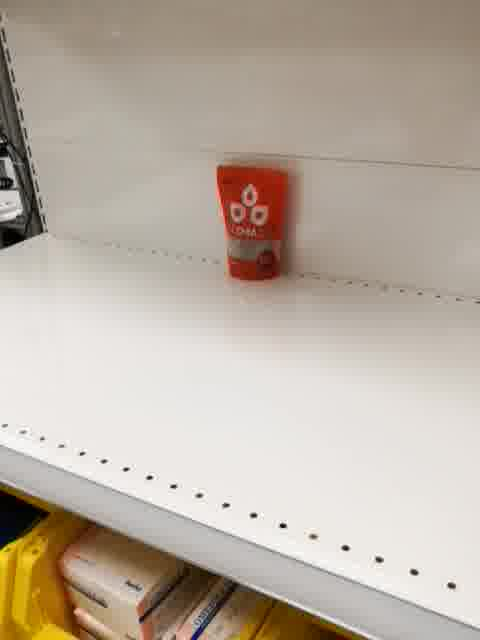whitechia: (214, 160, 297, 285)
